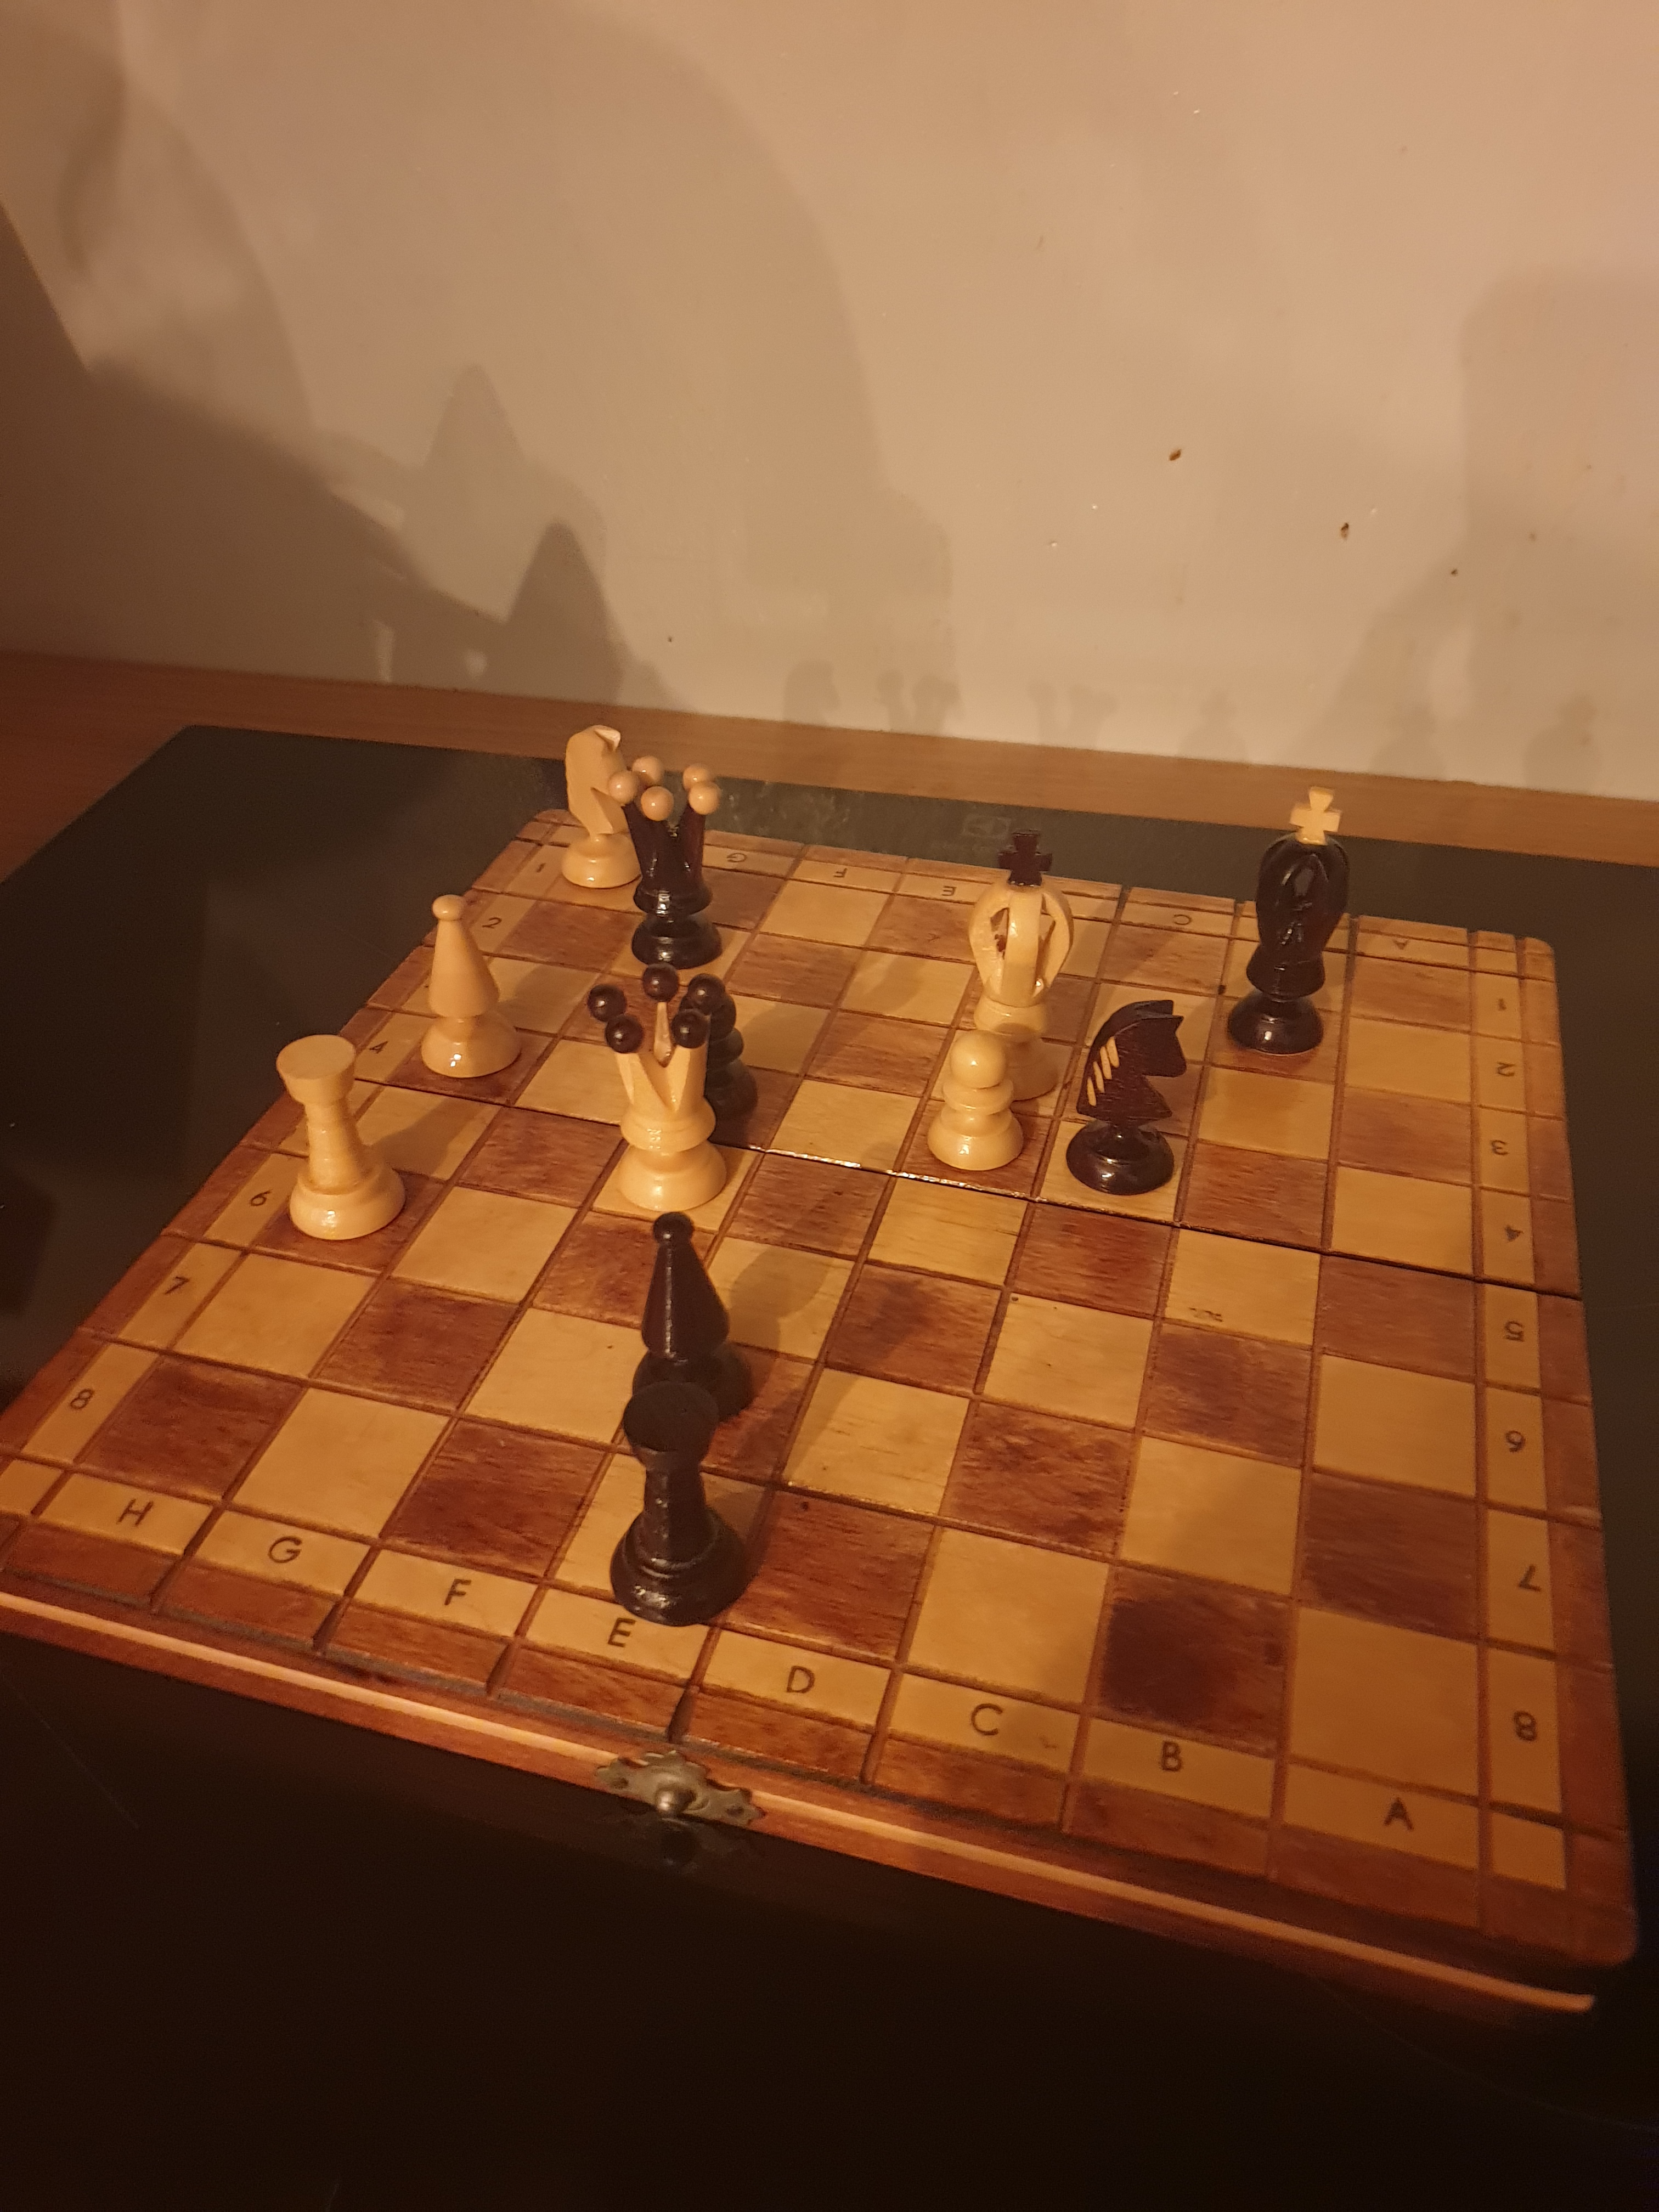bbishop: (613, 1195, 770, 1442)
bking: (1208, 777, 1364, 1069)
bknight: (1060, 989, 1201, 1211)
bpawn: (676, 963, 762, 1144)
bqueen: (608, 751, 732, 975)
brook: (605, 1374, 758, 1634)
wbishop: (399, 873, 535, 1097)
wking: (958, 820, 1087, 1118)
wknight: (554, 714, 648, 895)
wpawn: (911, 1021, 1037, 1181)
wqueen: (568, 942, 758, 1228)
wrook: (268, 1029, 411, 1251)
